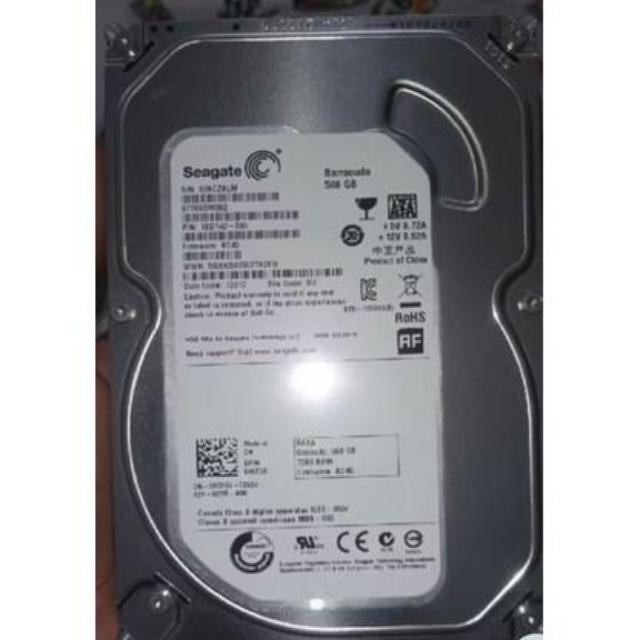DISK: (100, 8, 545, 640)
